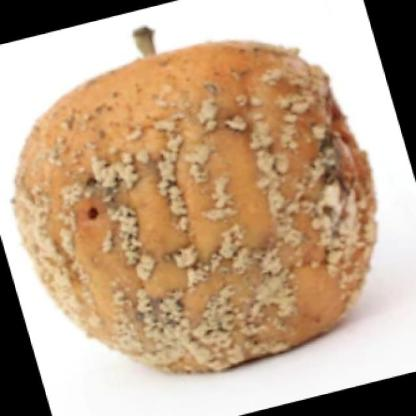defect: (16, 50, 370, 372)
